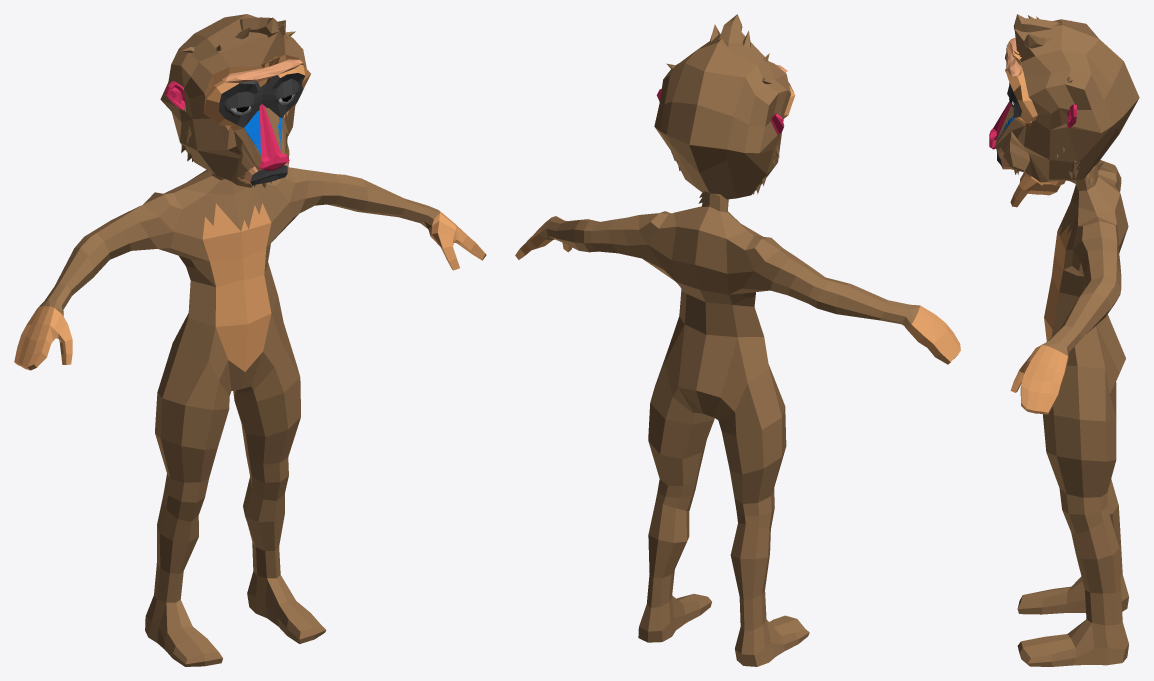
Rendered from monkey1.fbx.
3 renders of one model, left to right at view 1: azimuth 30°, elevation 25°; view 2: azimuth 150°, elevation 25°; view 3: azimuth 270°, elevation 25°, orthographic. The views are drawn at different scales.
Visible parts, largest first — view 1: monke oo ooo; view 2: monke oo ooo; view 3: monke oo ooo.
Part boxes in pixels (<box>): monke oo ooo: <box>14,14,486,666</box>; monke oo ooo: <box>515,14,960,666</box>; monke oo ooo: <box>989,14,1139,666</box>.
Bounding box in the file's own units: 656 × 860 × 188.
